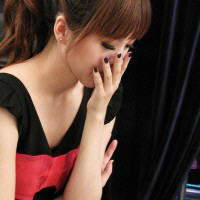face: (69, 2, 137, 88)
